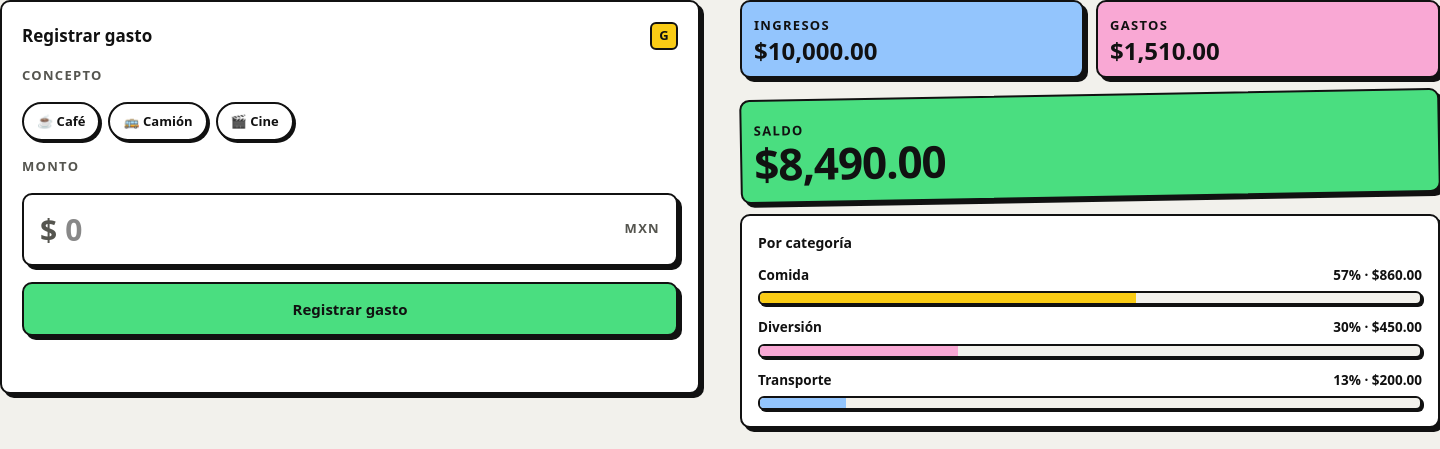
Scenario: LandingDemo — registrar › elegir un concepto lo marca en amarillo y deja el monto puesto
What coordinates should you click on to do the following:
click the button "☕ Café"
I would click on:
 (61, 121)
Its box is [22, 102, 100, 141].
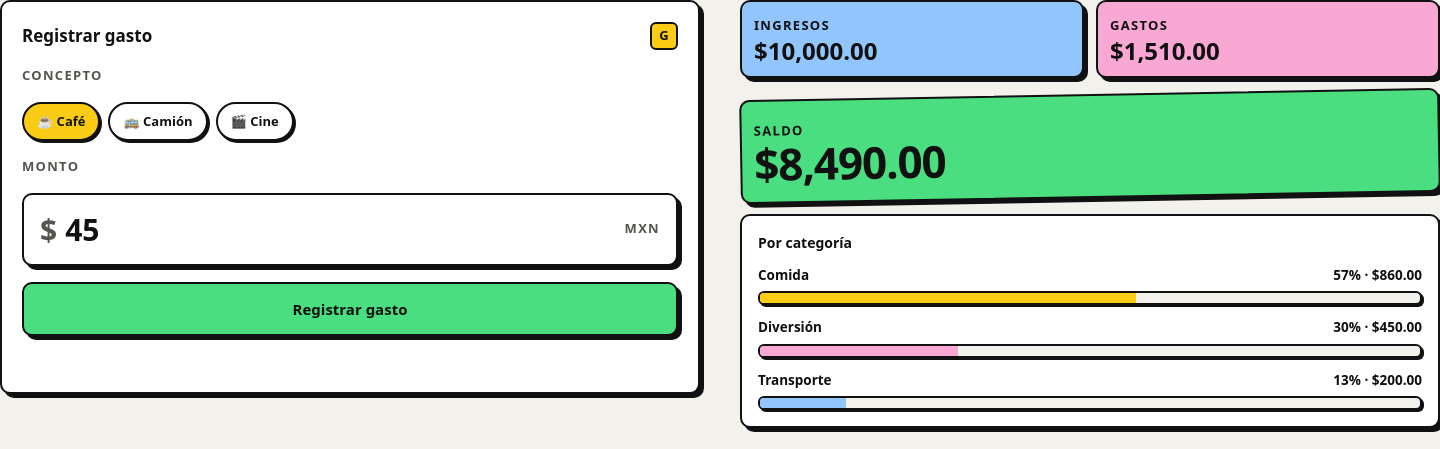
Now the field named "Monto" holds "45", box [65, 206, 617, 252]
